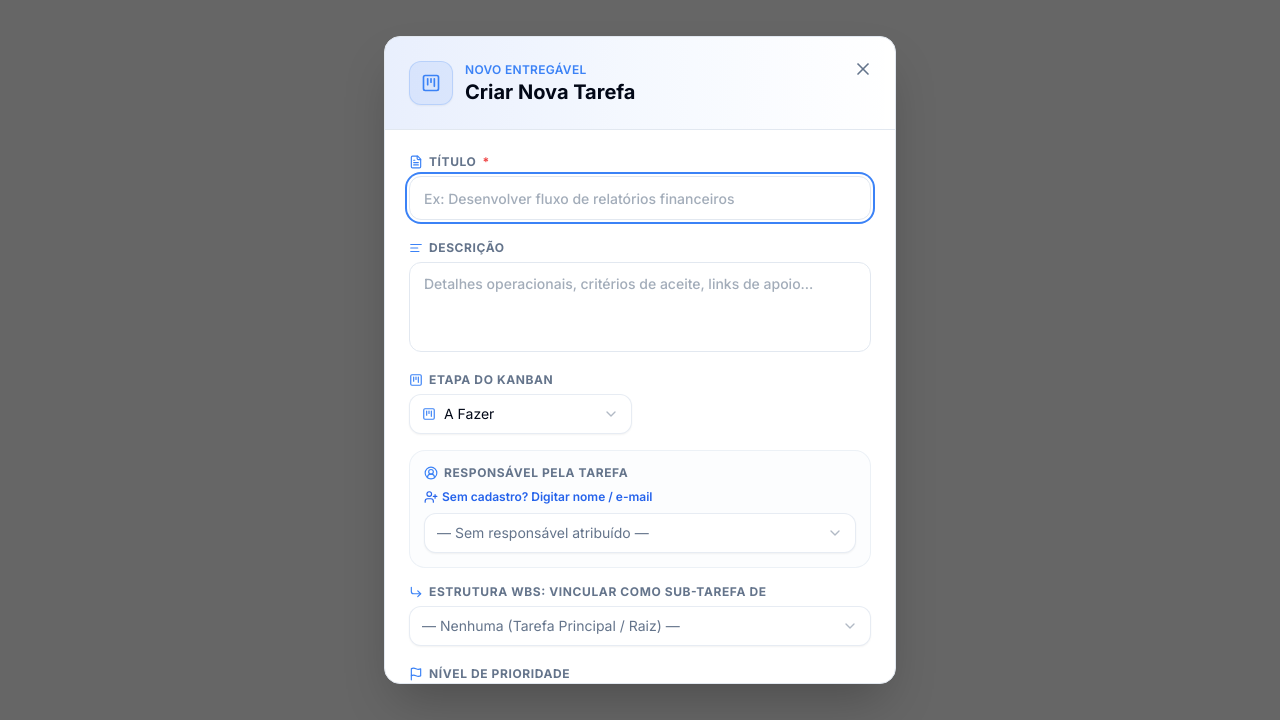
Test: TaskDialog › responsável externo fica pendente e exibe o convite
Click the button "Sem cadastro? Digitar nome / e-mail" at (538, 497), box [424, 489, 652, 505]
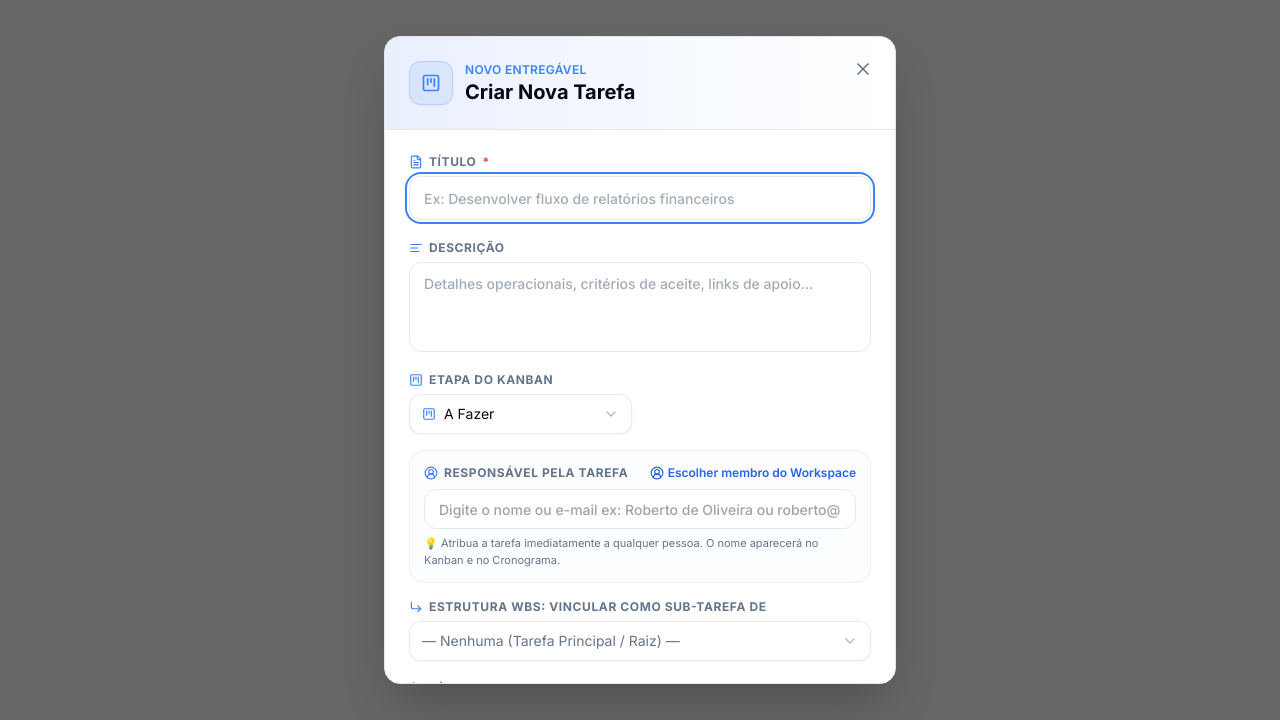
Replace the text in the field named "Nome ou e-mail do responsável externo" with "roberto@empresa.com" at (640, 509), box [424, 489, 856, 529]
(page scrolled)
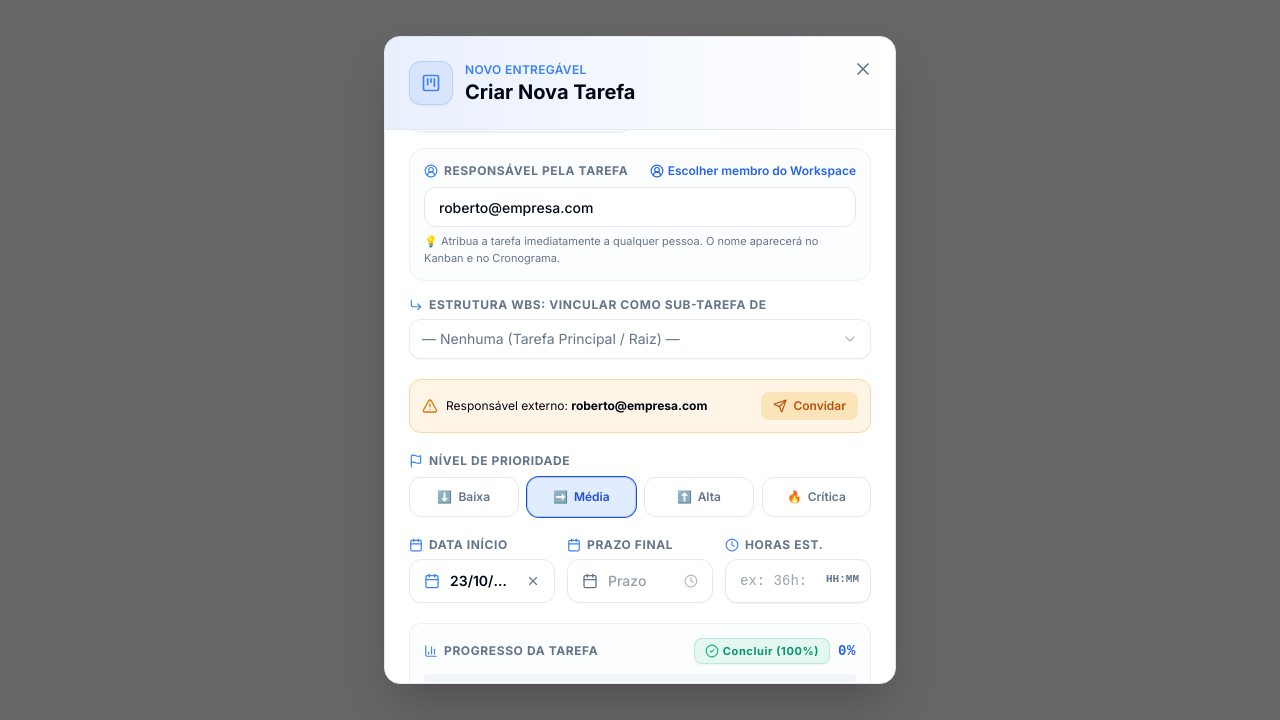
Now the text "roberto@empresa.com" is shown, box [571, 398, 707, 413]
Now the button "Convidar" is shown, box [761, 392, 858, 420]
